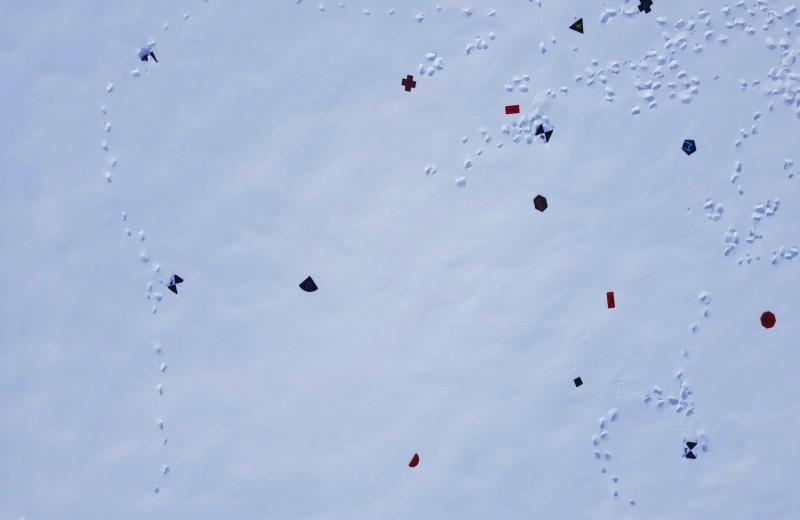Cross: (401, 74, 416, 92), (637, 0, 654, 14)
Hexagon: (534, 193, 548, 213)
Octagon: (760, 310, 776, 329)
Pentagon: (681, 138, 697, 158)
Quarter Circle: (299, 272, 320, 294)
Rectangle: (604, 290, 617, 308), (504, 104, 520, 117)
Semi Circle: (407, 452, 420, 468)
Square: (573, 377, 584, 389)
Triangle: (569, 17, 585, 36)
